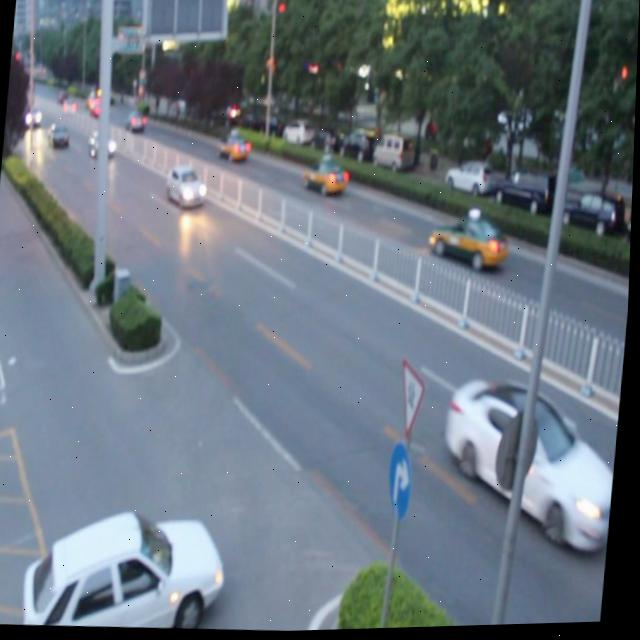car: (441, 371, 625, 564), (23, 499, 231, 635), (429, 215, 509, 274), (167, 164, 210, 210), (304, 161, 349, 199), (220, 133, 251, 162), (91, 130, 118, 158)
